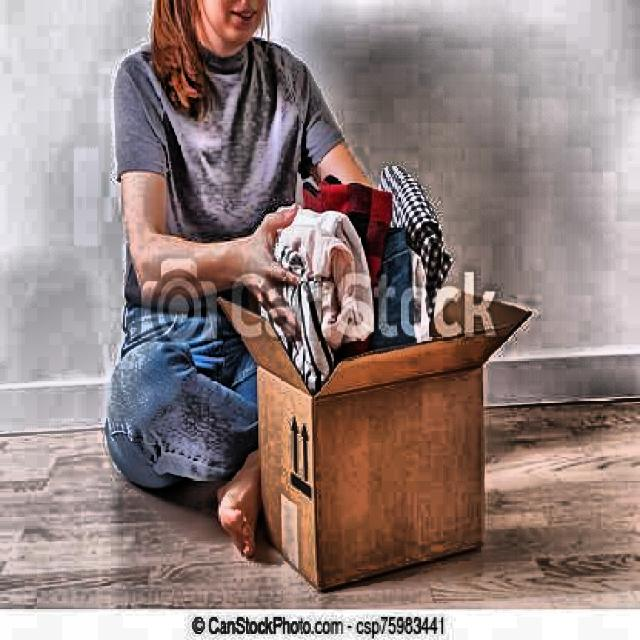Cardbox: (210, 269, 506, 586)
